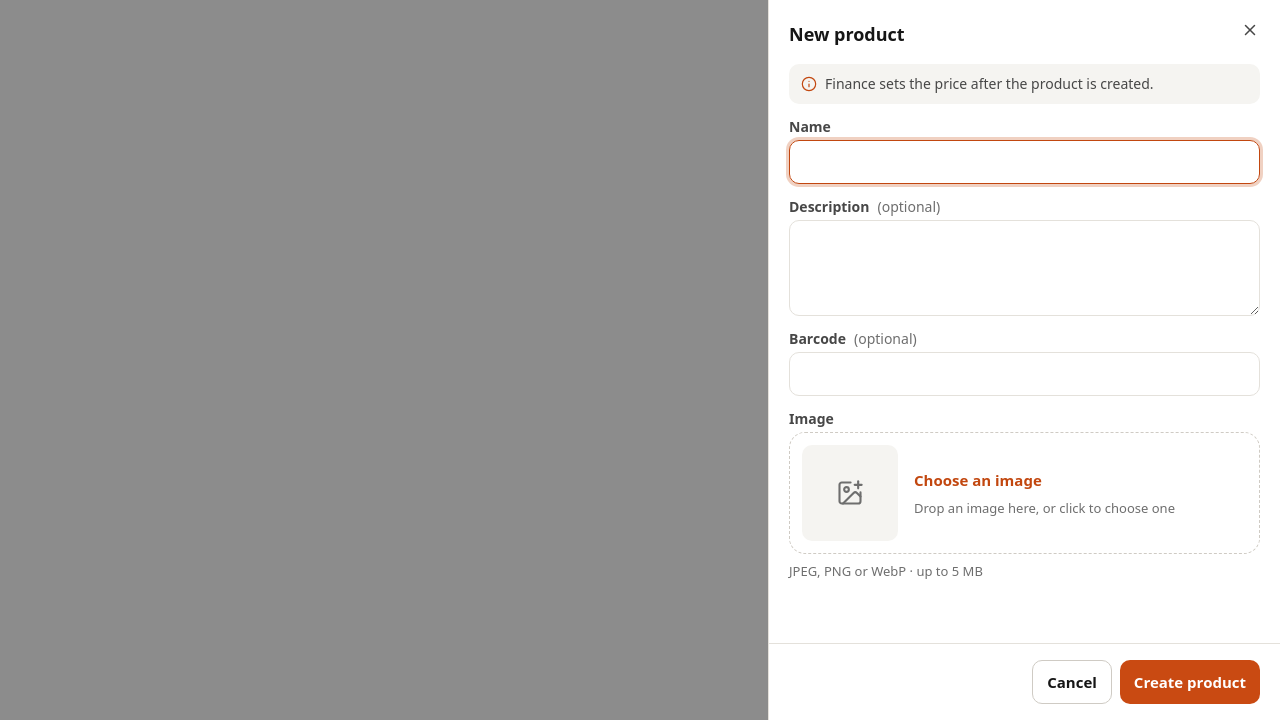
it: product form › requires an image when creating
In the field labelled "Name": (1024, 162) [789,140,1260,184], type "Wheel cleaner"
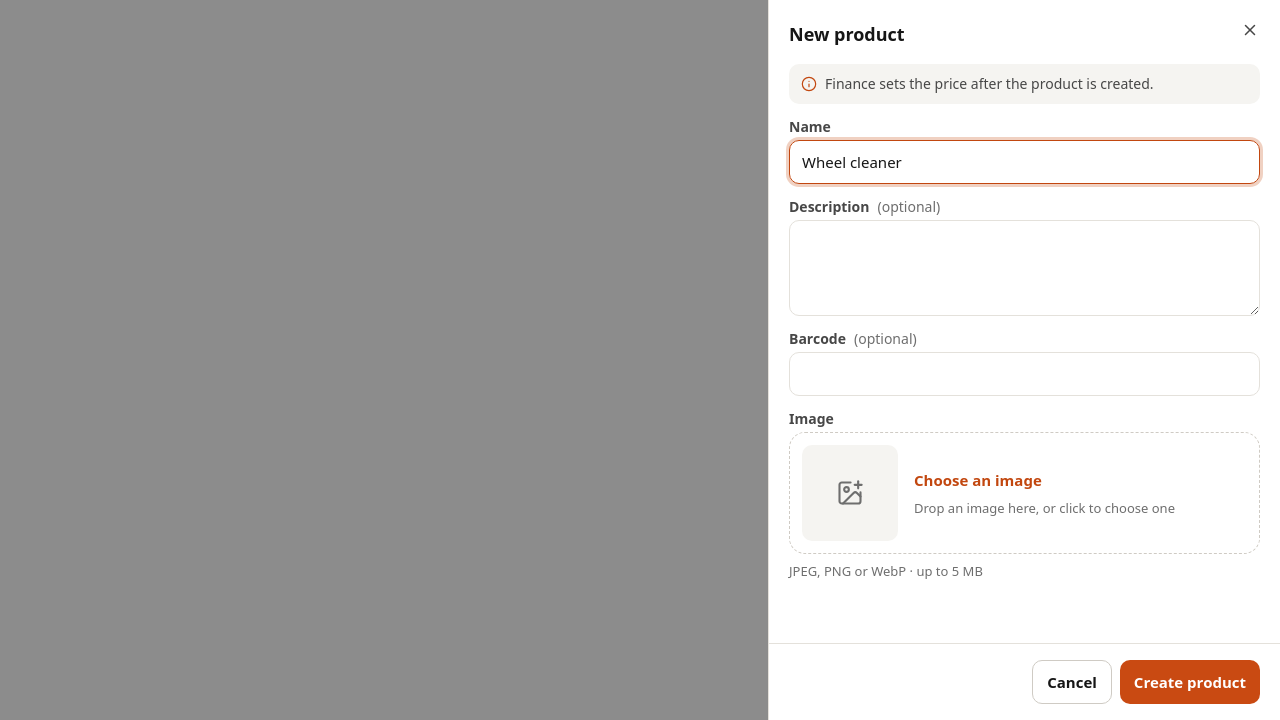
Click the button "Create product": (1190, 682) [1120,660,1260,704]
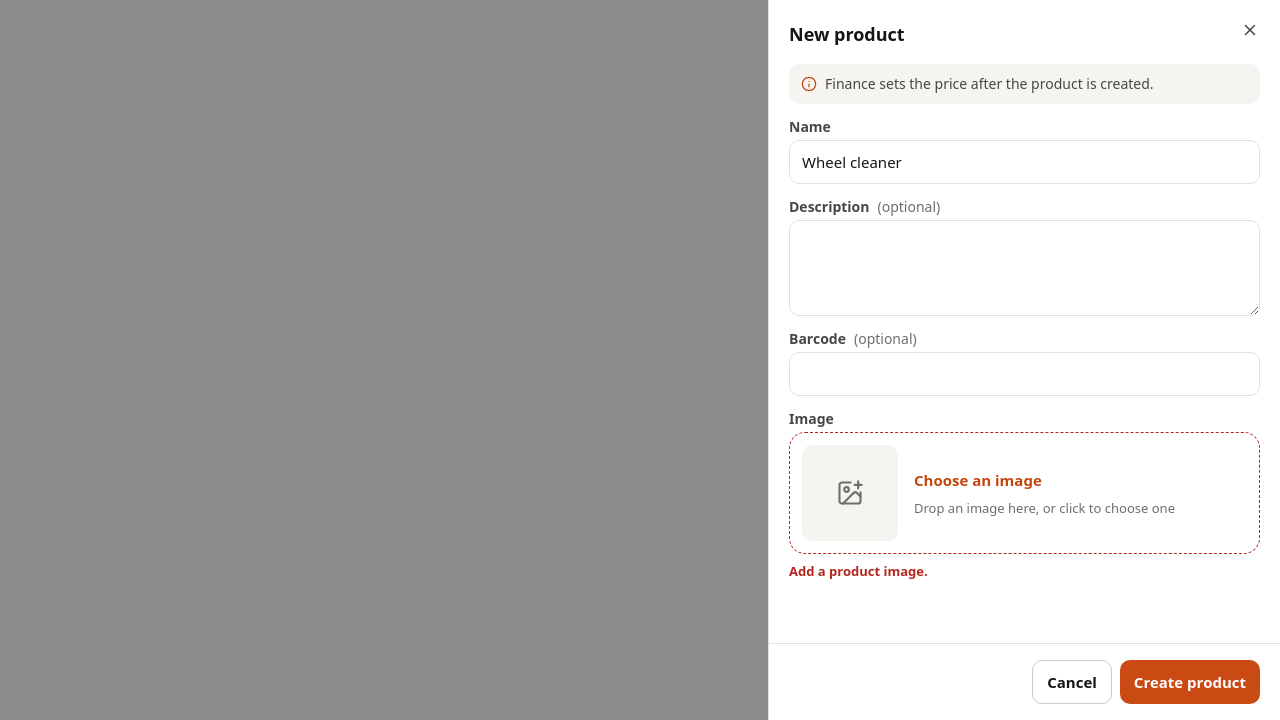
Now the text "Add a product image." is shown, box [789,562,928,580]
